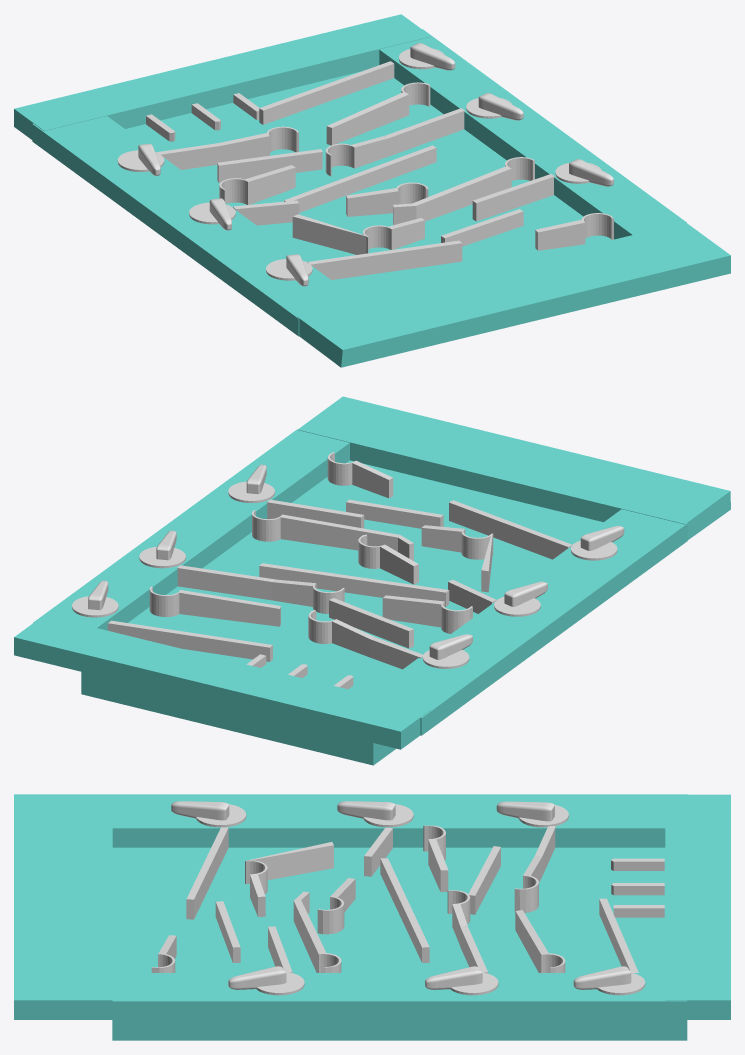
Rendered from 10yen.fbx.
3 views of the same model, one above another, from view 1: azimuth 30°, elevation 25°; view 2: azimuth 150°, elevation 25°; view 3: azimuth 270°, elevation 25° (orthographic). The views are drawn at different scales.
Parts seen in each view (by area): view 1: Cube.001, Cube.005, Cube.003, Cube.004, Cube.002, 立方体.003, 立方体.002, 立方体.004, 立方体, 立方体.001, 立方体.005, 立方体.006 (+3 smaller); view 2: Cube.001, Cube.005, Cube.004, Cube.003, Cube.002, 立方体.003, 立方体.002, 立方体.004, 立方体.001, 立方体, 立方体.005, 立方体_立方体.006 (+7 smaller); view 3: Cube.001, Cube.003, Cube.002, Cube.005, Cube.004, 立方体.003, 立方体.002, 立方体.005, 立方体.004, 立方体.001, 立方体, 立方体.006 (+12 smaller).
Boxes of the visible parts, x1=… form: Cube.001: x1=125, y1=71, x2=614, y2=301; Cube.005: x1=297, y1=222, x2=730, y2=367; Cube.003: x1=32, y1=116, x2=359, y2=336; Cube.004: x1=14, y1=14, x2=431, y2=139; Cube.002: x1=379, y1=29, x2=686, y2=239; 立方体.003: x1=217, y1=108, x2=464, y2=212; 立方体.002: x1=233, y1=157, x2=534, y2=225; 立方体.004: x1=156, y1=82, x2=430, y2=169; 立方体: x1=307, y1=213, x2=613, y2=279; 立方体.001: x1=363, y1=174, x2=554, y2=253; 立方体.005: x1=146, y1=61, x2=394, y2=141; 立方体.006: x1=292, y1=214, x2=366, y2=254; Cube.001: x1=81, y1=460, x2=603, y2=765; Cube.005: x1=297, y1=396, x2=730, y2=539; Cube.004: x1=14, y1=615, x2=430, y2=749; Cube.003: x1=369, y1=509, x2=687, y2=735; Cube.002: x1=33, y1=429, x2=349, y2=630; 立方体.003: x1=177, y1=563, x2=472, y2=648; 立方体.002: x1=252, y1=510, x2=496, y2=613; 立方体.004: x1=149, y1=586, x2=422, y2=669; 立方体.001: x1=266, y1=499, x2=493, y2=559; 立方体: x1=327, y1=452, x2=572, y2=559; 立方体.005: x1=107, y1=620, x2=353, y2=689; 立方体_立方体.006: x1=429, y1=634, x2=472, y2=659; Cube.001: x1=112, y1=847, x2=687, y2=1040; Cube.003: x1=112, y1=794, x2=687, y2=847; Cube.002: x1=112, y1=973, x2=687, y2=1020; Cube.005: x1=14, y1=794, x2=112, y2=1019; Cube.004: x1=665, y1=794, x2=730, y2=1019; 立方体.003: x1=380, y1=825, x2=500, y2=973; 立方体.002: x1=293, y1=827, x2=392, y2=972; 立方体.005: x1=599, y1=858, x2=664, y2=972; 立方体.004: x1=514, y1=826, x2=565, y2=972; 立方体.001: x1=215, y1=860, x2=292, y2=972; 立方体: x1=151, y1=827, x2=228, y2=972; 立方体.006: x1=248, y1=842, x2=333, y2=880.
Size of the model in its own units: 1931 by 350 by 2823.
